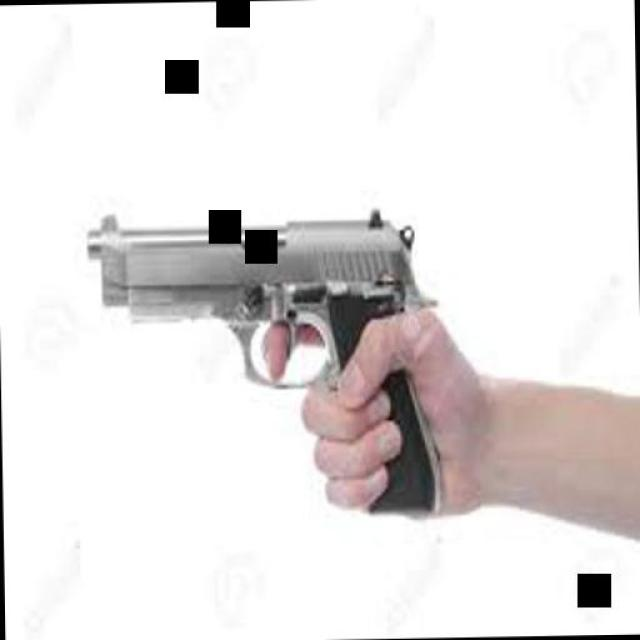gun: (76, 192, 452, 538)
